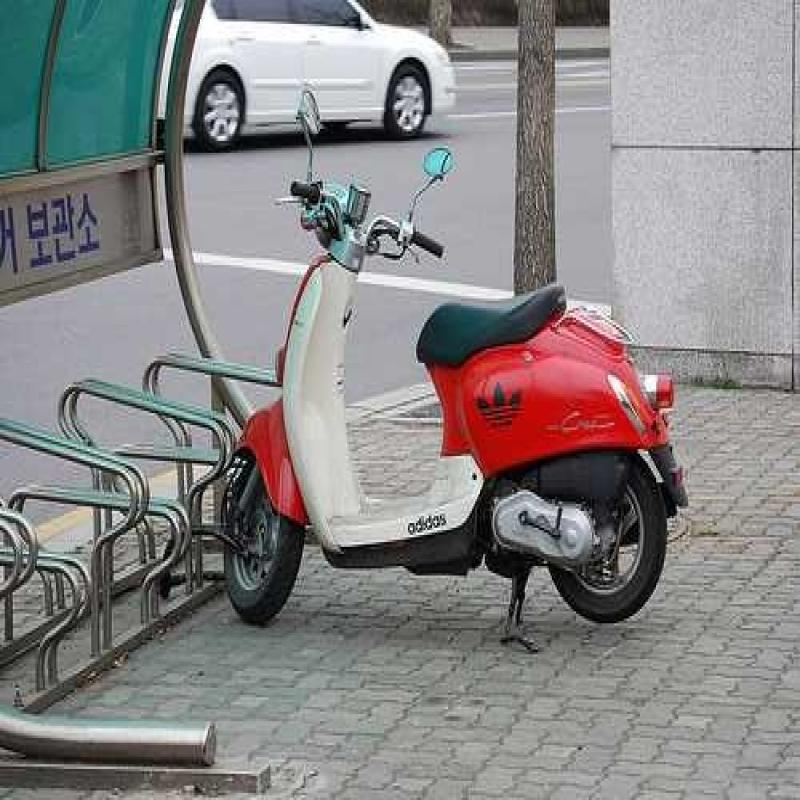bike: (209, 101, 676, 656)
